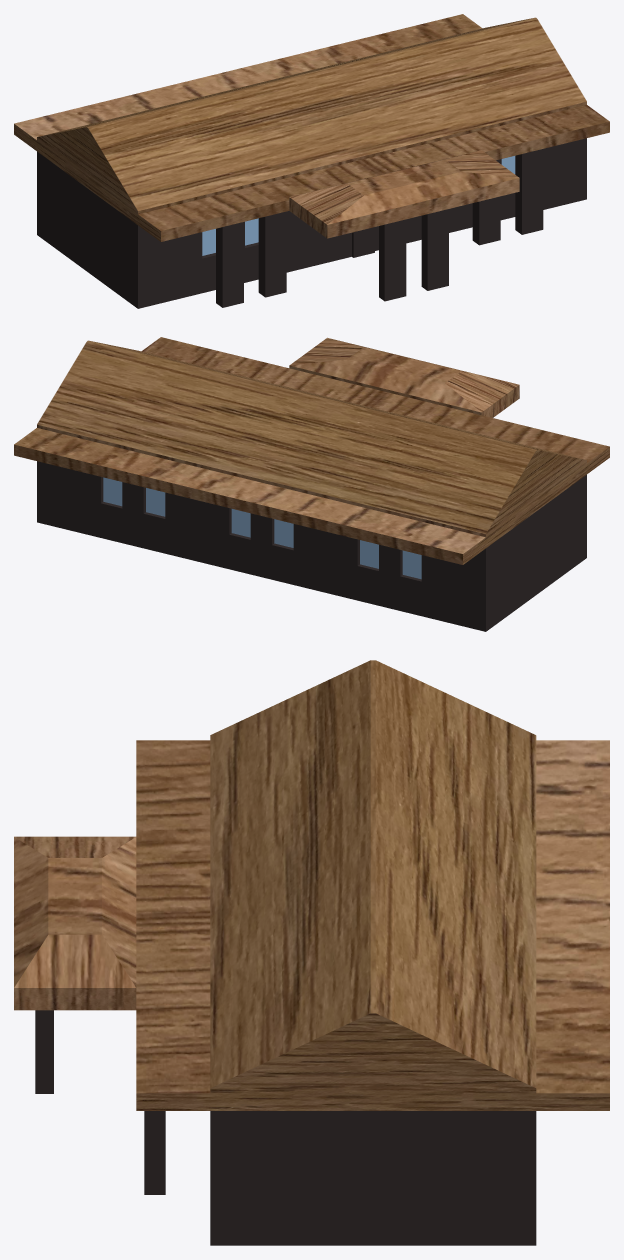
File: suburb.glb
The picture shows the model from 3 angles, top to bottom: view 1: azimuth 30°, elevation 25°; view 2: azimuth 150°, elevation 25°; view 3: azimuth 270°, elevation 25°; orthographic projection. The views are drawn at different scales.
Parts seen in each view (by area): view 1: Cube, Cube.001; view 2: Cube, Cube.001; view 3: Cube.
Boxes of the visible parts, left/top/right/bottom form: Cube: left=14, top=14, right=609, bottom=308; Cube.001: left=202, top=156, right=515, bottom=255; Cube: left=14, top=337, right=609, bottom=631; Cube.001: left=103, top=477, right=421, bottom=579; Cube: left=14, top=660, right=609, bottom=1245.
Bounding box in the file's own units: 14.91 × 4.58 × 10.63.
3 materials, 1 textured.
